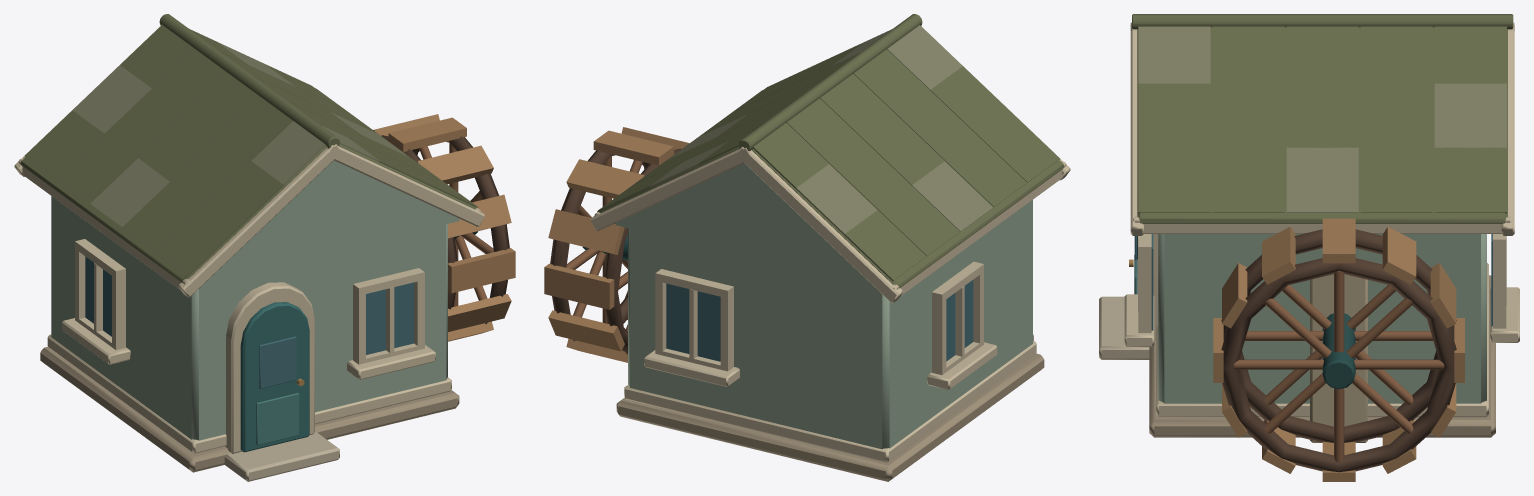
The model's file is watermill_level_1.glb.
The picture shows the model from 3 angles, left to right: view 1: azimuth 30°, elevation 25°; view 2: azimuth 150°, elevation 25°; view 3: azimuth 270°, elevation 25°; orthographic projection. The views are drawn at different scales.
Parts seen in each view (by area): view 1: watermill_level_1_runtime; view 2: watermill_level_1_runtime; view 3: watermill_level_1_runtime.
Boxes of the visible parts, <box> form: watermill_level_1_runtime: <box>14,14,515,481</box>; watermill_level_1_runtime: <box>544,14,1070,481</box>; watermill_level_1_runtime: <box>1099,14,1519,481</box>.
Size of the model in its own units: 4.56 by 3.53 by 3.84.
